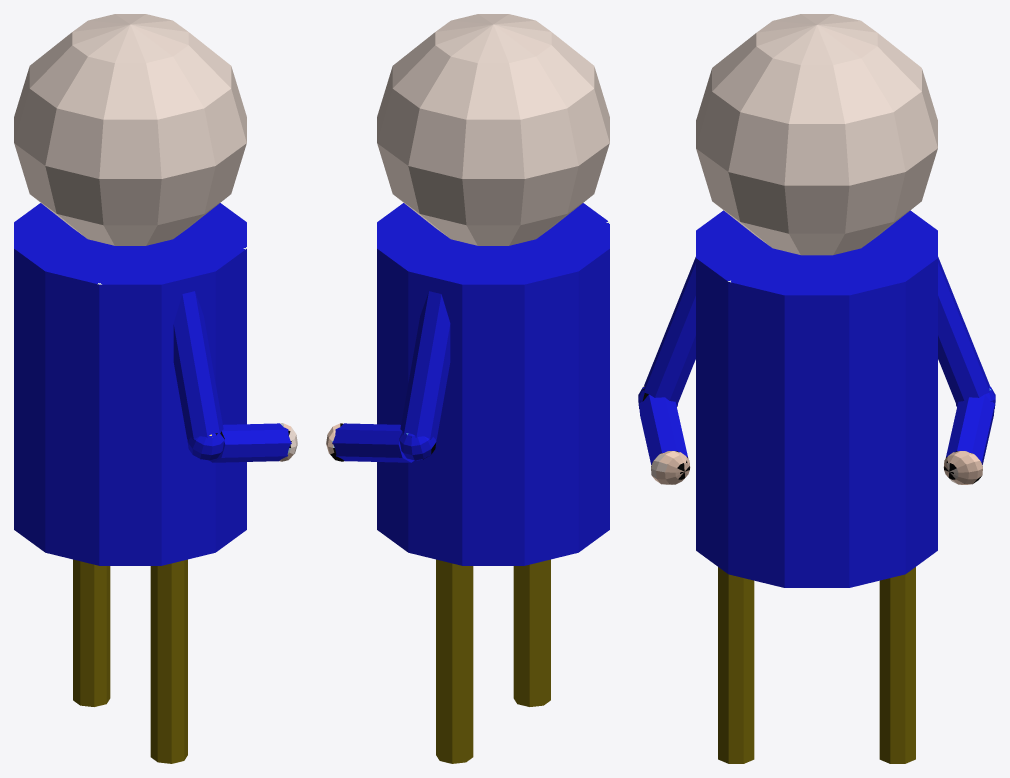
File: basemodel.glb
3 renders of one model, left to right at view 1: azimuth 30°, elevation 25°; view 2: azimuth 150°, elevation 25°; view 3: azimuth 270°, elevation 25°, orthographic. The views are drawn at different scales.
Parts seen in each view (by area): view 1: body, sphere, left_leg, upper, right_left, lower; view 2: body, sphere, right_left, upper, left_leg, lower; view 3: body, sphere, upper (×2), right_left, left_leg, lower (×2).
Part boxes in pixels (box(x1,y1,x2,y2)): body: box(14, 203, 246, 565); sphere: box(14, 14, 246, 245); left_leg: box(150, 559, 187, 763); upper: box(173, 291, 224, 460); right_left: box(73, 559, 110, 706); lower: box(209, 423, 297, 462); body: box(377, 203, 609, 565); sphere: box(377, 14, 609, 245); right_left: box(436, 559, 473, 763); upper: box(399, 291, 450, 460); left_leg: box(513, 559, 550, 706); lower: box(326, 423, 414, 462); body: box(696, 210, 937, 587); sphere: box(696, 14, 937, 255); upper (×2): box(638, 257, 995, 408); right_left: box(879, 567, 915, 763); left_leg: box(718, 567, 754, 763); lower (×2): box(639, 394, 994, 484).
Size of the model in its own units: 0.375 by 1.25 by 0.5539.
Materials: 8 (8 with a texture image).
